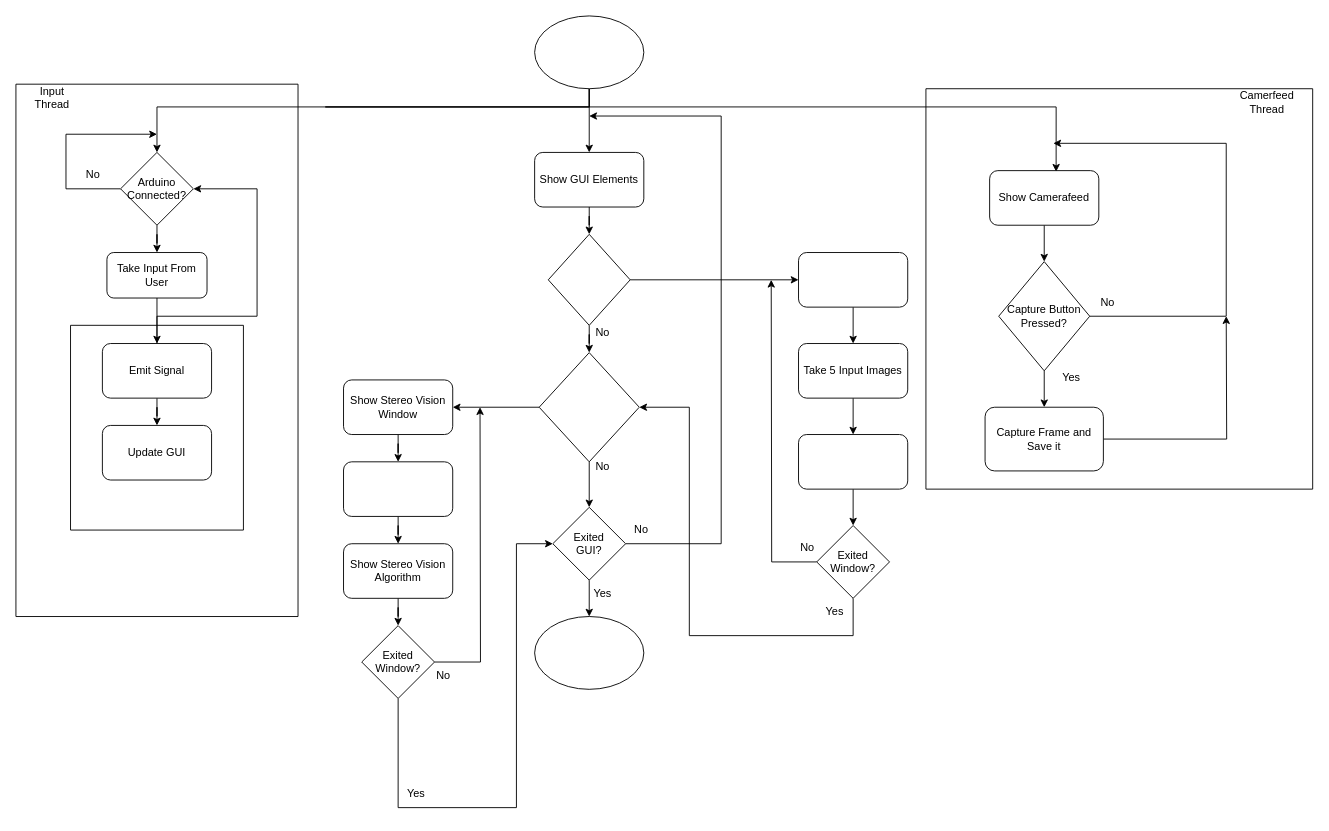
Image size: 1329x831. Some labels were removed from this diagram. The shapes that lost their labels are listed below. From the top down, each one's box as (x1, y1, x2, y2) in pixels, then its label:
(534, 15, 644, 89): Start
(547, 233, 630, 325): Stitch Button Pressed?
(798, 252, 908, 307): Show Stitch Wiindow
(70, 324, 243, 530): Update Thread
(538, 352, 639, 462): Stereo Vision Button Pressed?
(798, 434, 908, 489): Show Stitched Image
(343, 461, 453, 516): Get 2 Input Images
(534, 616, 644, 689): Exit Program
